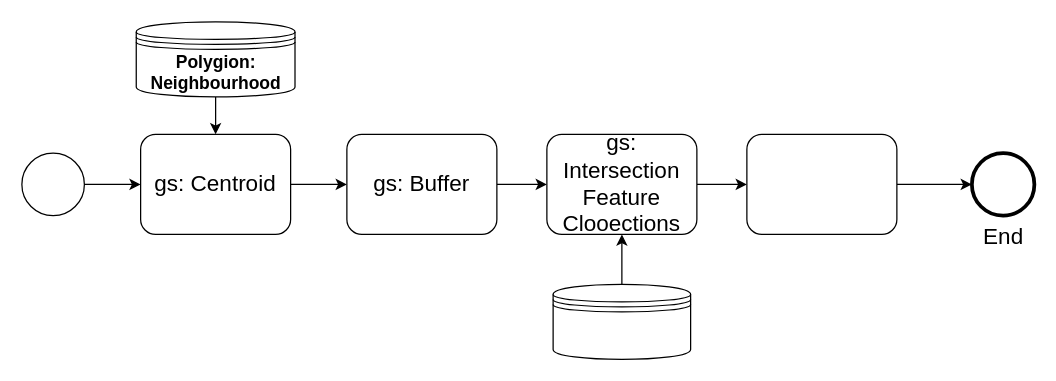
This 1056x381 diagram has some shape labels left out. Each missing label, with the box of its shape:
gs: Length: (746, 133, 897, 234)
Polyline: Street: (552, 283, 691, 359)
Start: (21, 152, 84, 216)
